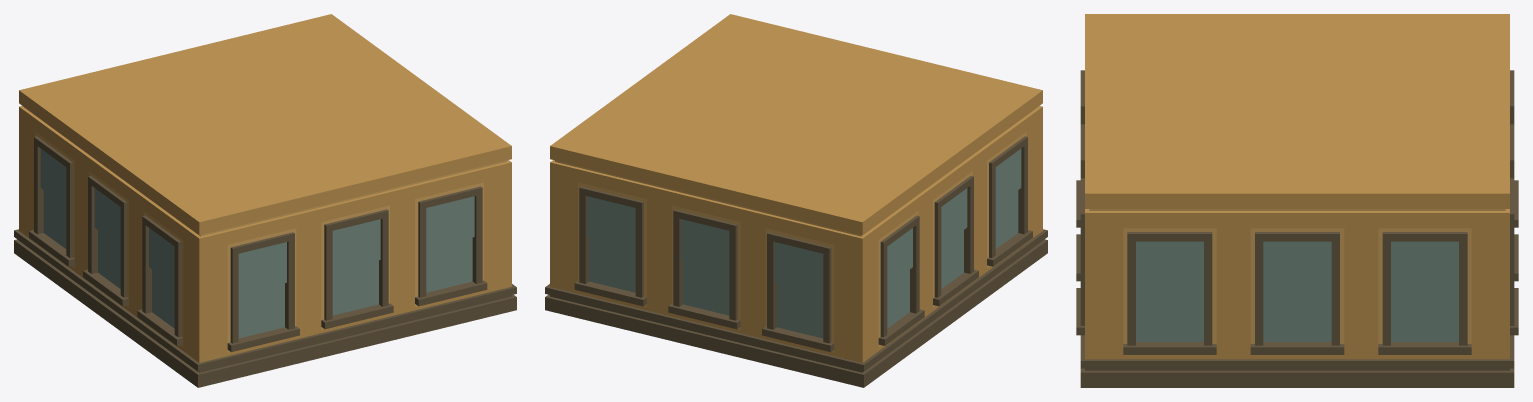
The model's file is vcity_floor_b2.glb.
The picture shows the model from 3 angles, left to right: view 1: azimuth 30°, elevation 25°; view 2: azimuth 150°, elevation 25°; view 3: azimuth 270°, elevation 25°; orthographic projection. The views are drawn at different scales.
Visible parts, largest first — view 1: vcity_floor_b2; view 2: vcity_floor_b2; view 3: vcity_floor_b2.
Part boxes in pixels (x1=…): vcity_floor_b2: x1=14, y1=14, x2=516, y2=387; vcity_floor_b2: x1=545, y1=14, x2=1047, y2=387; vcity_floor_b2: x1=1076, y1=14, x2=1518, y2=387.
Bounding box in the file's own units: 5.2 × 2.5 × 5.2.
1 material, 1 textured.
